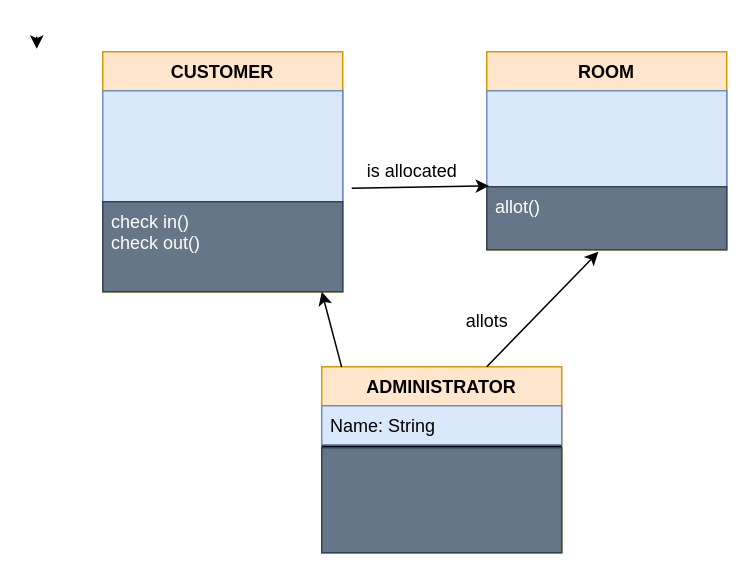
Some shapes in this 753 by 584 pixel diagram are drawn without their labels. The shapes that lost their labels are listed below. From the top down, each one's centre as x and y in pixels, then its label:
At [222,145]: "Name:String phone no:integer address:string id:integer".
At [606,138]: "Number:integer status:Boolean".
At [441,499]: "insert() update() delete() view()".
